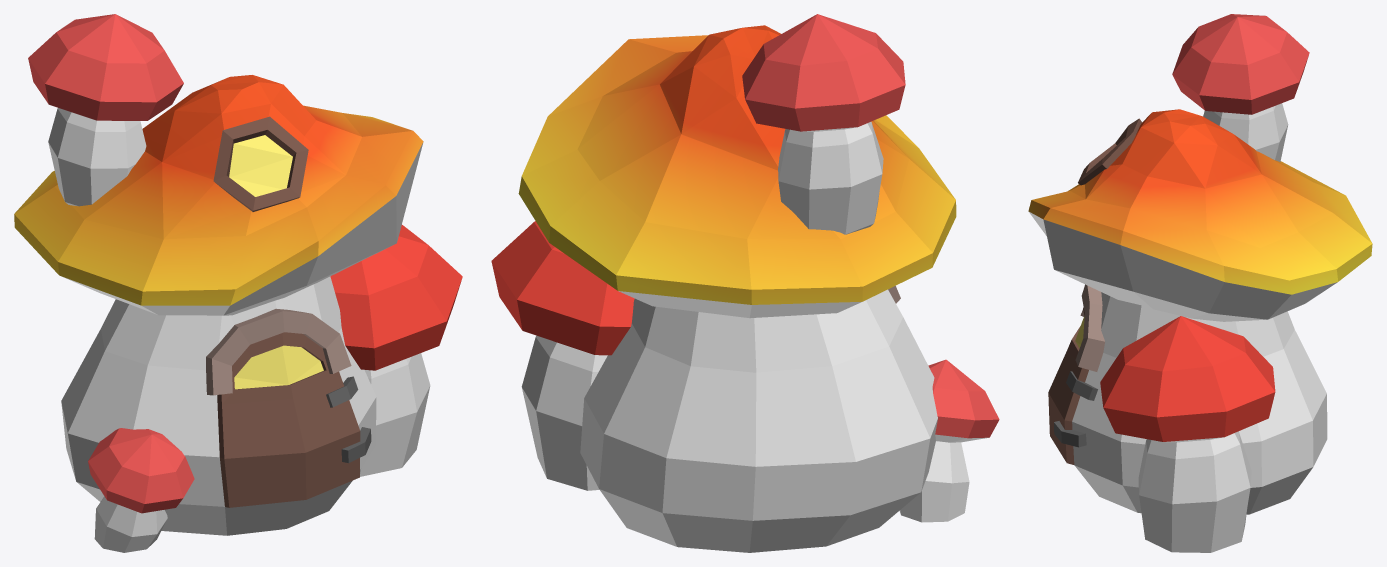
Rendered from building_004.fbx.
The picture shows the model from 3 angles, left to right: view 1: azimuth 30°, elevation 25°; view 2: azimuth 150°, elevation 25°; view 3: azimuth 270°, elevation 25°; orthographic projection. The views are drawn at different scales.
Parts seen in each view (by area): view 1: building.004; view 2: building.004; view 3: building.004.
Part boxes in pixels (bbox=[...]): building.004: bbox=[14, 14, 462, 552]; building.004: bbox=[491, 14, 999, 552]; building.004: bbox=[1028, 14, 1372, 552].
Size of the model in its own units: 660 by 769 by 570.
Materials: 1 (1 with a texture image).
